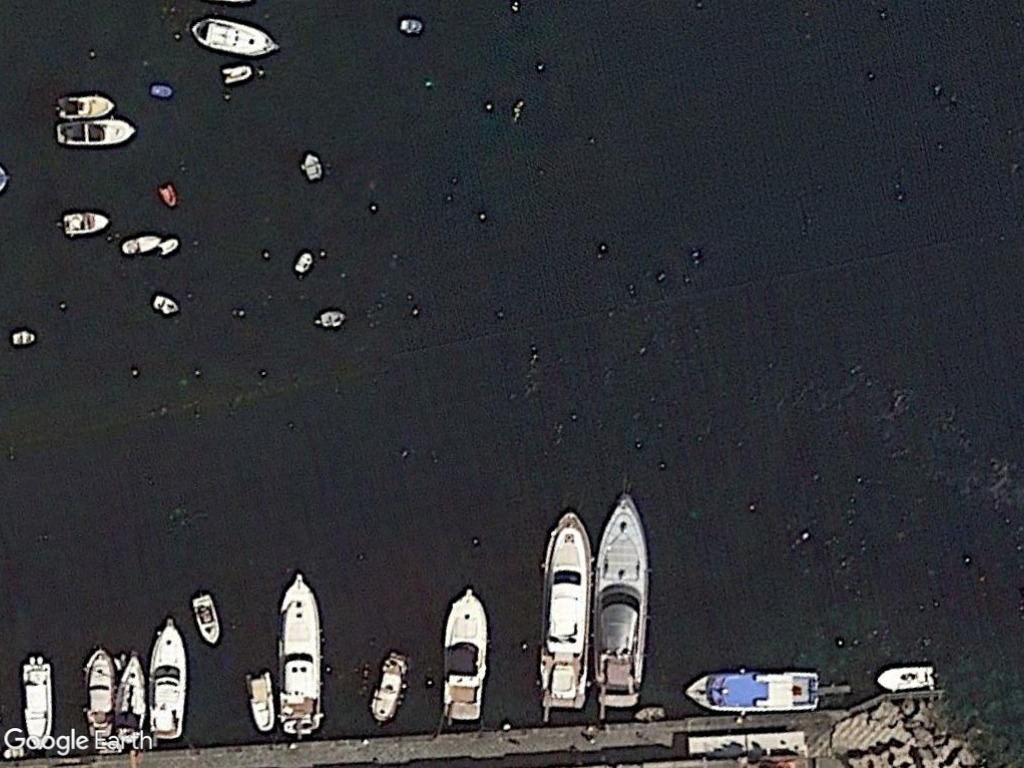boat: (528, 503, 595, 716), (595, 487, 651, 709), (268, 564, 334, 739), (435, 580, 492, 724), (680, 666, 822, 716), (141, 609, 193, 743), (186, 11, 283, 64), (79, 643, 118, 745), (17, 651, 56, 752), (364, 648, 414, 726), (242, 665, 281, 735), (50, 115, 138, 146), (872, 660, 941, 695), (188, 588, 225, 650), (52, 88, 123, 120), (57, 207, 115, 239)
